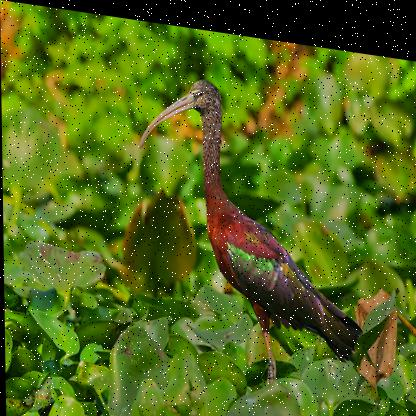Burung: (136, 63, 375, 395)
